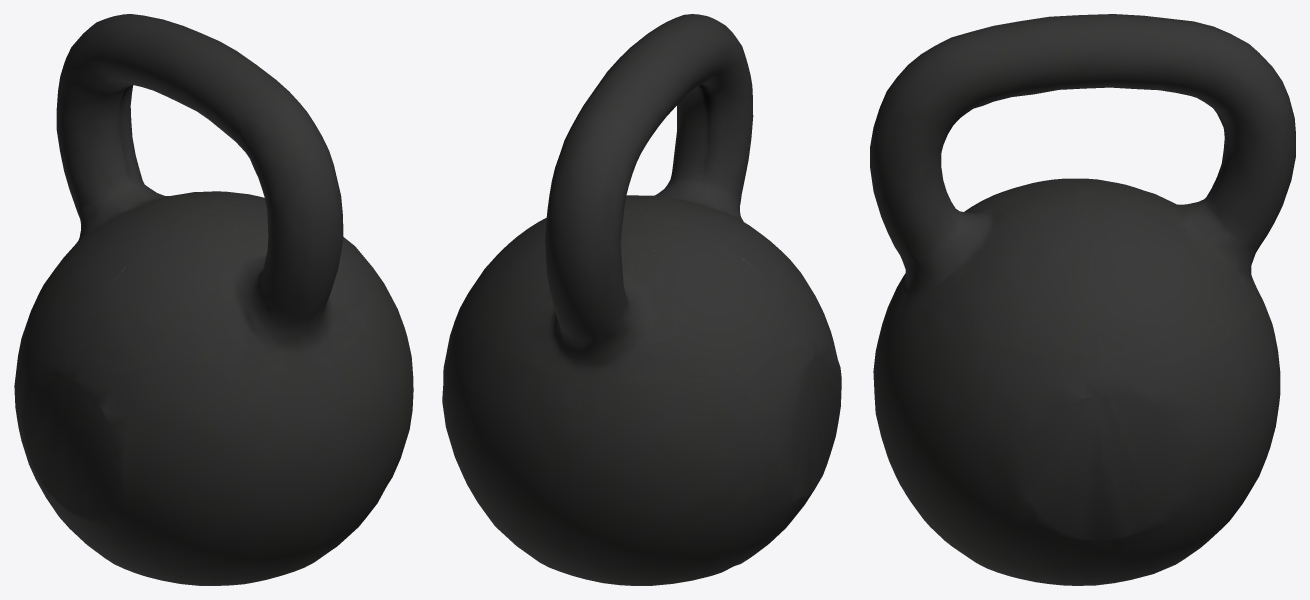
The model's file is kettlebell_v01.optimized.glb.
The picture shows the model from 3 angles, left to right: view 1: azimuth 30°, elevation 25°; view 2: azimuth 150°, elevation 25°; view 3: azimuth 270°, elevation 25°; orthographic projection. The views are drawn at different scales.
Visible parts, largest first — view 1: tripo_node_05d1afee-739a-49e0-b09b-3772fcfd1be0; view 2: tripo_node_05d1afee-739a-49e0-b09b-3772fcfd1be0; view 3: tripo_node_05d1afee-739a-49e0-b09b-3772fcfd1be0.
Boxes of the visible parts, x1,y1,x2,y2 form: tripo_node_05d1afee-739a-49e0-b09b-3772fcfd1be0: (14,14,413,585); tripo_node_05d1afee-739a-49e0-b09b-3772fcfd1be0: (442,14,841,585); tripo_node_05d1afee-739a-49e0-b09b-3772fcfd1be0: (870,14,1295,585).
Size of the model in its own units: 0.7051 by 0.998 by 0.748.
Materials: 1 (1 with a texture image).
